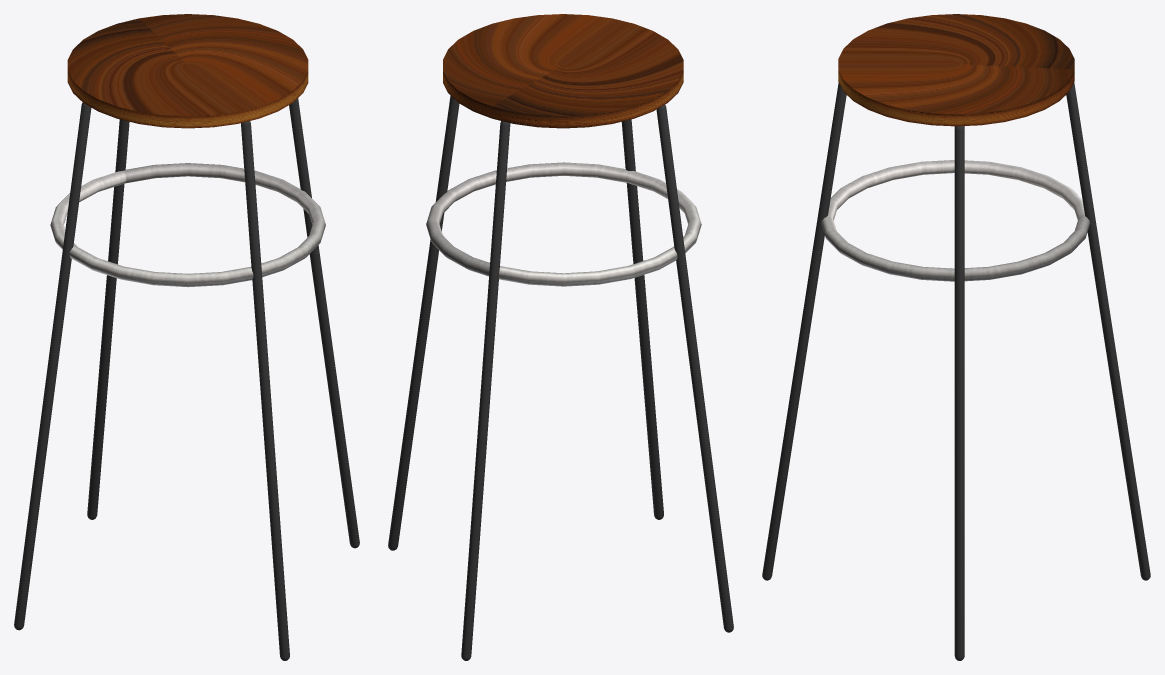
The model's file is tallchair.FBX.
3 views of the same model, side by side, from view 1: azimuth 30°, elevation 25°; view 2: azimuth 150°, elevation 25°; view 3: azimuth 270°, elevation 25° (orthographic).
Parts seen in each view (by area): view 1: Cylinder001, Torus001, ChamferBox004, ChamferBox002, ChamferBox001, ChamferBox003; view 2: Cylinder001, Torus001, ChamferBox003, ChamferBox002, ChamferBox001, ChamferBox004; view 3: Cylinder001, Torus001, ChamferBox001, ChamferBox003, ChamferBox004.
Part boxes in pixels (bbox=[...]): Cylinder001: bbox=[67, 14, 308, 128]; Torus001: bbox=[50, 163, 325, 287]; ChamferBox004: bbox=[241, 121, 289, 660]; ChamferBox002: bbox=[14, 102, 91, 630]; ChamferBox001: bbox=[289, 98, 359, 548]; ChamferBox003: bbox=[87, 119, 129, 519]; Cylinder001: bbox=[443, 14, 683, 128]; Torus001: bbox=[426, 162, 701, 286]; ChamferBox003: bbox=[461, 121, 510, 660]; ChamferBox002: bbox=[656, 105, 733, 632]; ChamferBox001: bbox=[388, 95, 459, 550]; ChamferBox004: bbox=[621, 119, 663, 519]; Cylinder001: bbox=[838, 14, 1074, 126]; Torus001: bbox=[821, 160, 1090, 281]; ChamferBox001: bbox=[954, 126, 964, 660]; ChamferBox003: bbox=[1066, 82, 1150, 580]; ChamferBox004: bbox=[762, 83, 846, 580].
Bounding box in the file's own units: 592 × 862 × 588.
Materials: 3 (2 with a texture image).
